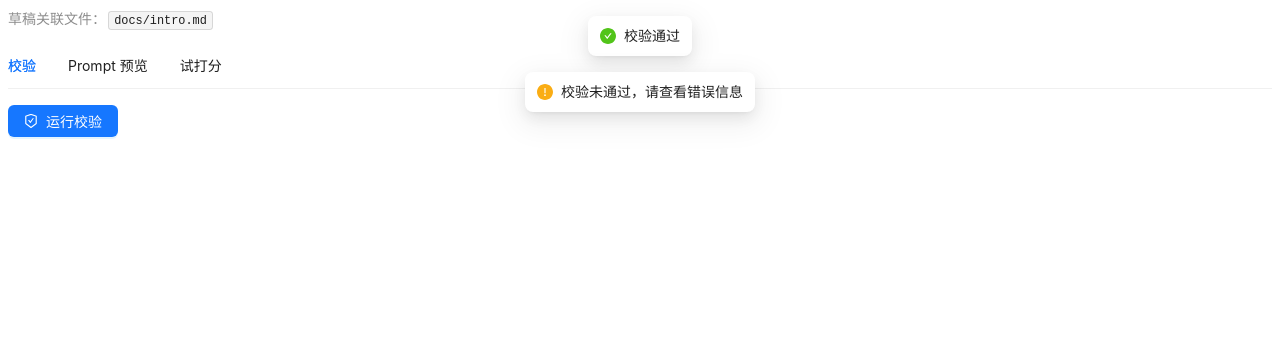
Scenario: KnowledgePreviewPanel › shows hash comparison and prompt diff on prompt preview tab
The image size is (1280, 362).
Note: 切换到 Prompt 预览标签页
Click the tab "Prompt 预览" at (108, 66), box [68, 55, 148, 77]
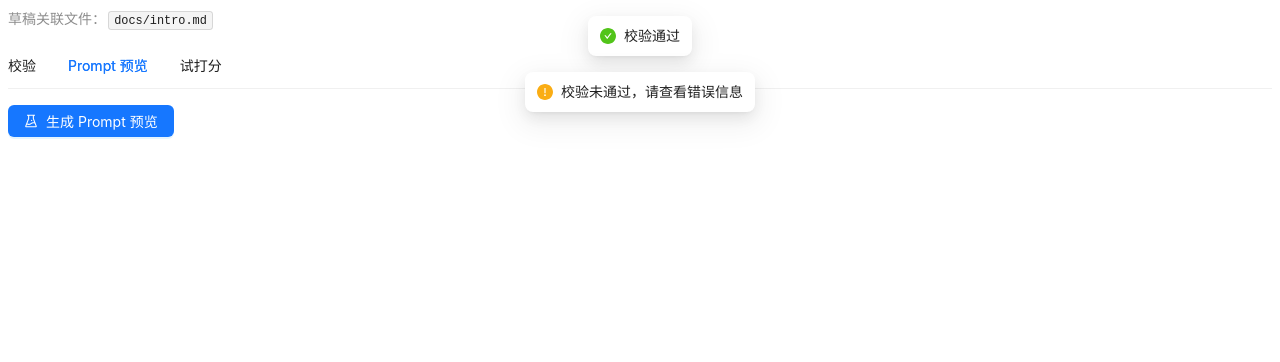
Click the button "生成 Prompt 预览" at (91, 121), box [8, 105, 174, 137]
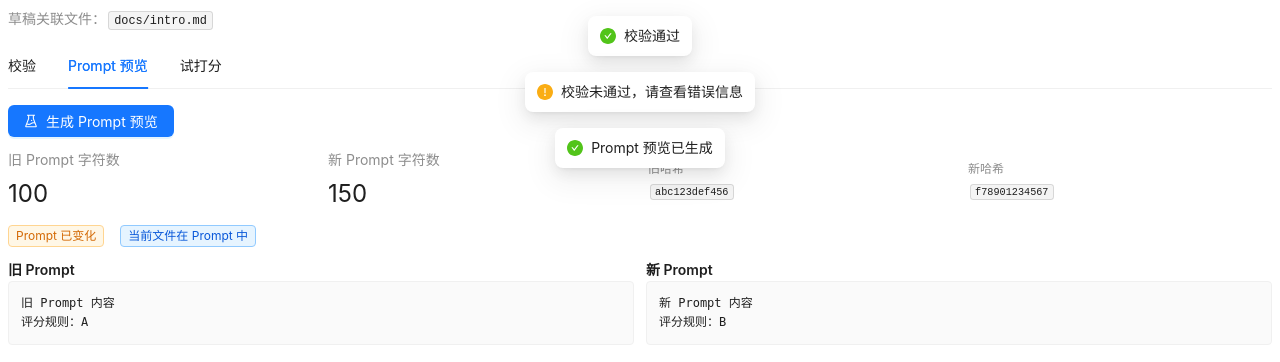
Expected: the text "Prompt 已变化" is shown, [8, 225, 104, 247]
Expected: the text "当前文件在 Prompt 中" is shown, [120, 225, 256, 247]
Expected: the text "abc123def456" is shown, [650, 184, 734, 200]
